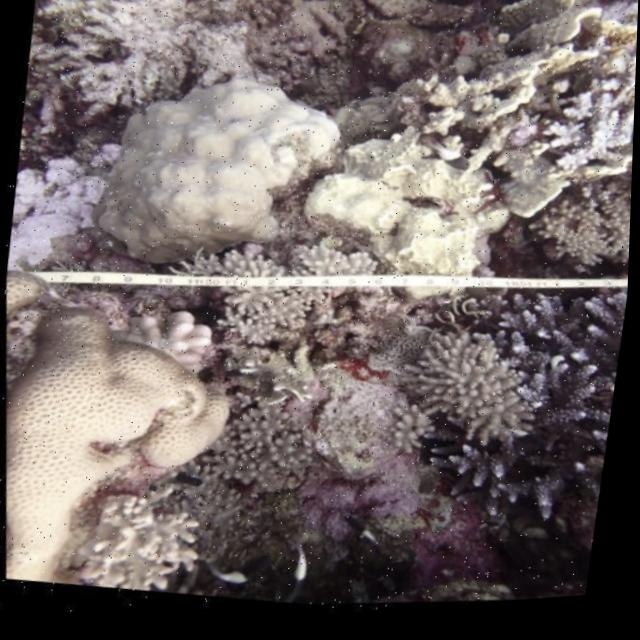Bleached Coral: (59, 40, 372, 311), (314, 11, 571, 340), (17, 0, 294, 135), (501, 0, 639, 228), (0, 110, 140, 331)
